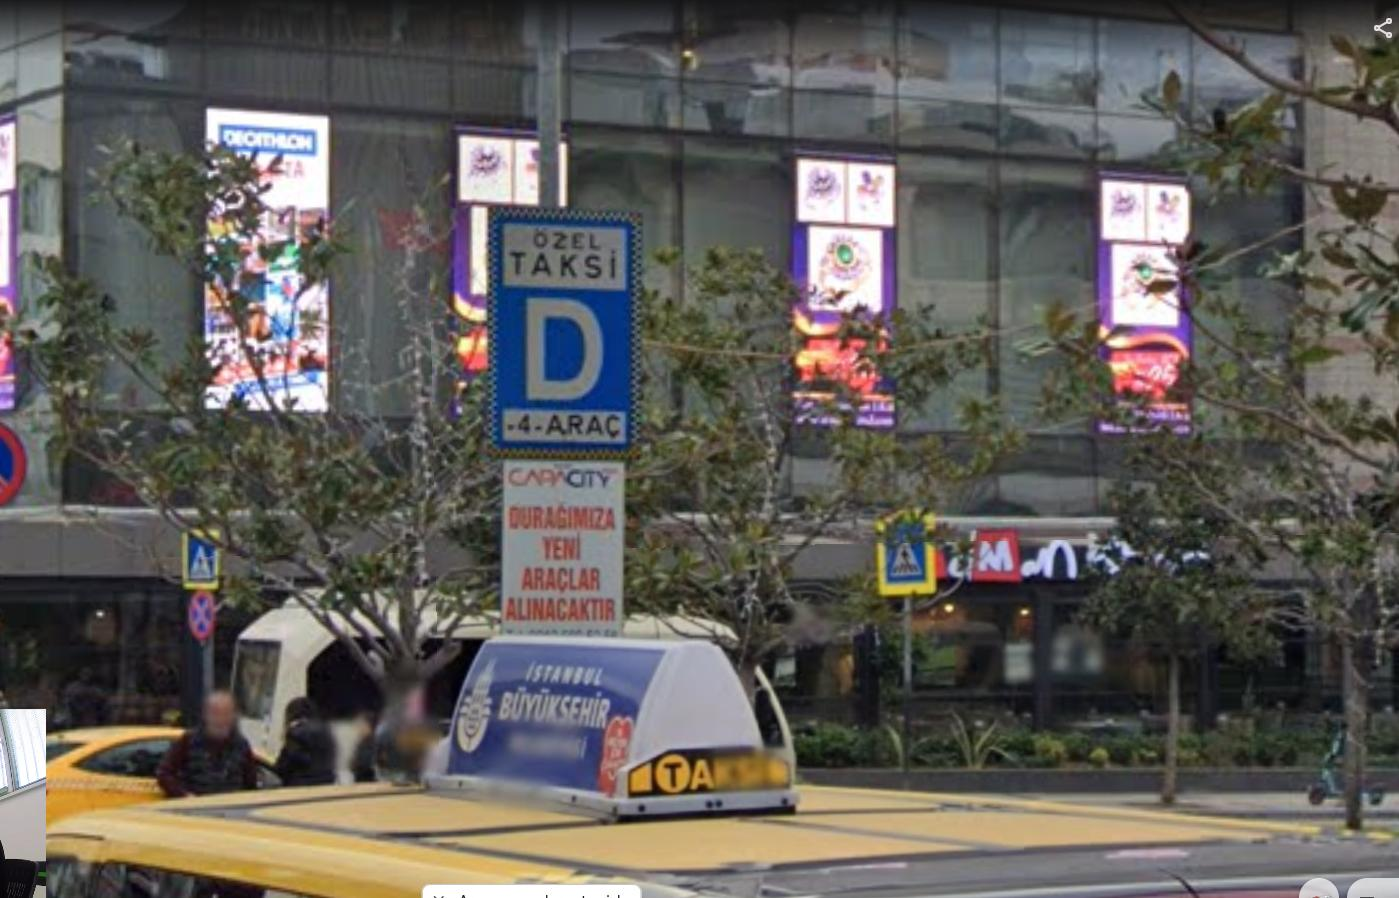station: (495, 282, 631, 414)
